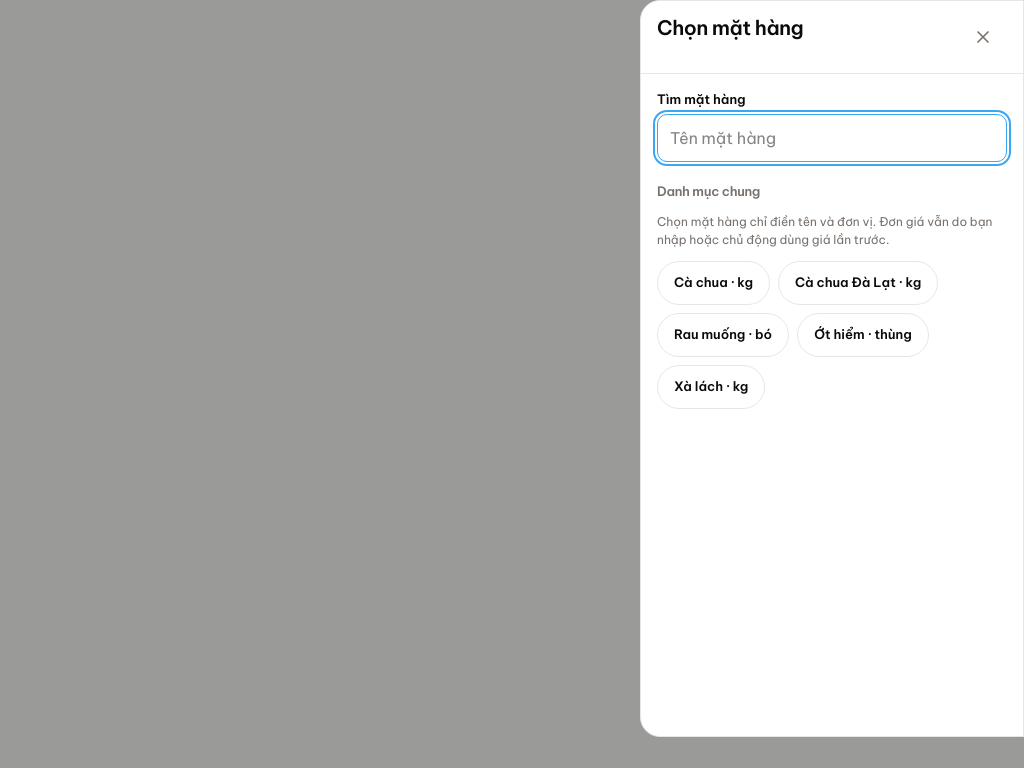
Scenario: ProductPicker › matches products by alias without requiring diacritics
Type "tomato" into the search field labelled "Tìm mặt hàng".
click(832, 138); type("tomato")  # box [657, 114, 1007, 162]
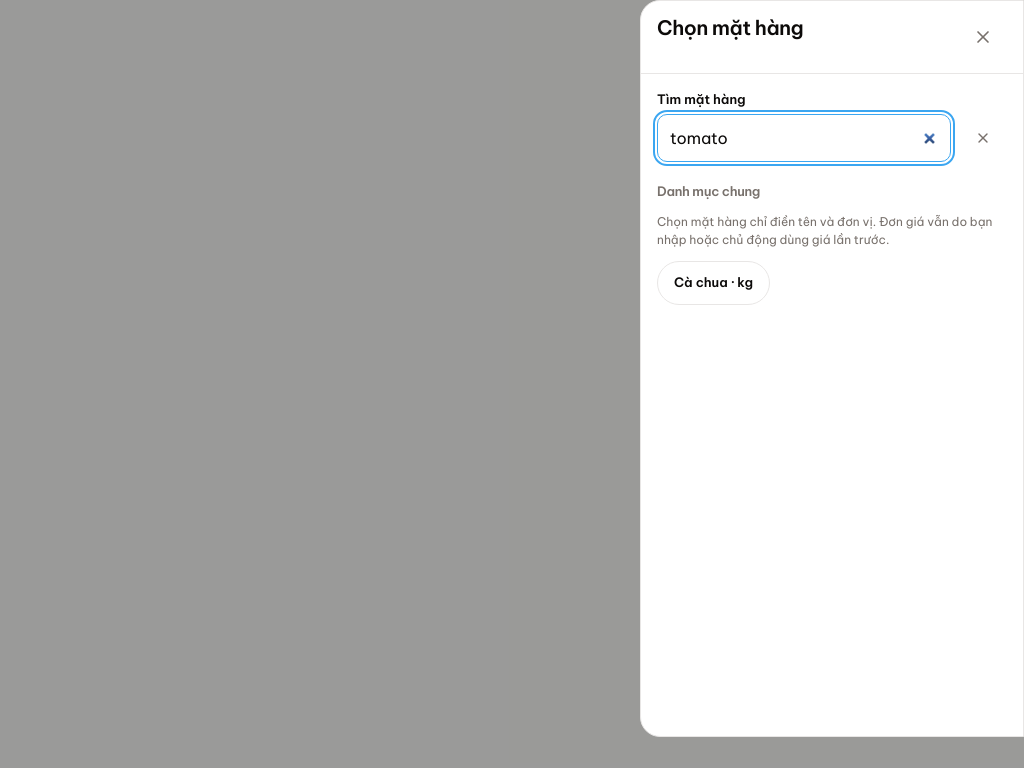
Expected: the button "Cà chua · kg" is shown, [657, 261, 770, 305]
Now the button "Xà lách" is gone
